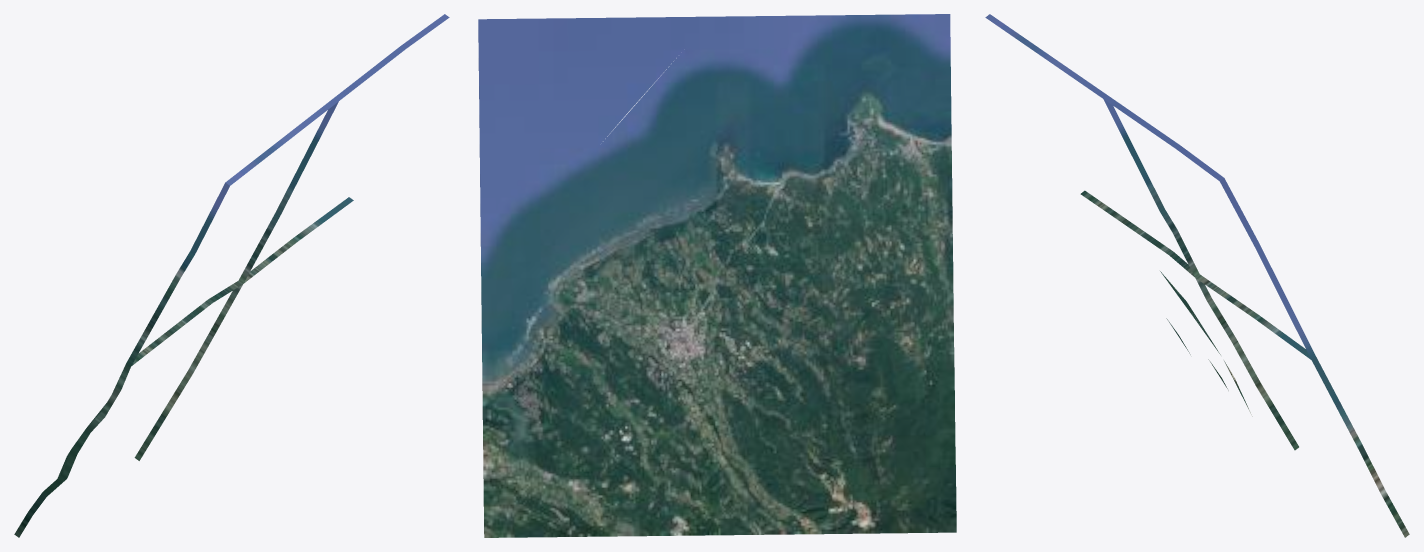
3 views of the same model, side by side, from view 1: azimuth 30°, elevation 25°; view 2: azimuth 150°, elevation 25°; view 3: azimuth 270°, elevation 25° (orthographic). The views are drawn at different scales.
Size of the model in its own units: 10090 by 8847 by 8349.
1 material, 1 textured.
